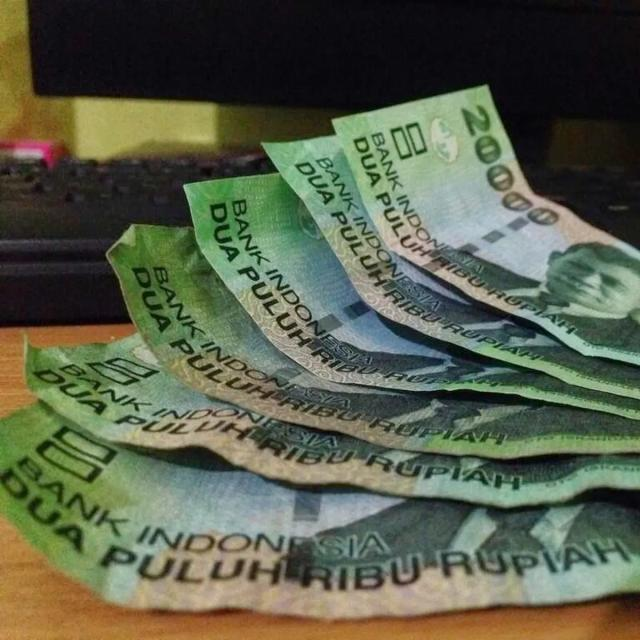dua puluh ribu rupiah: (0, 396, 640, 625), (107, 220, 640, 461), (182, 172, 640, 420), (25, 331, 640, 508), (263, 135, 640, 403), (331, 83, 640, 368)
